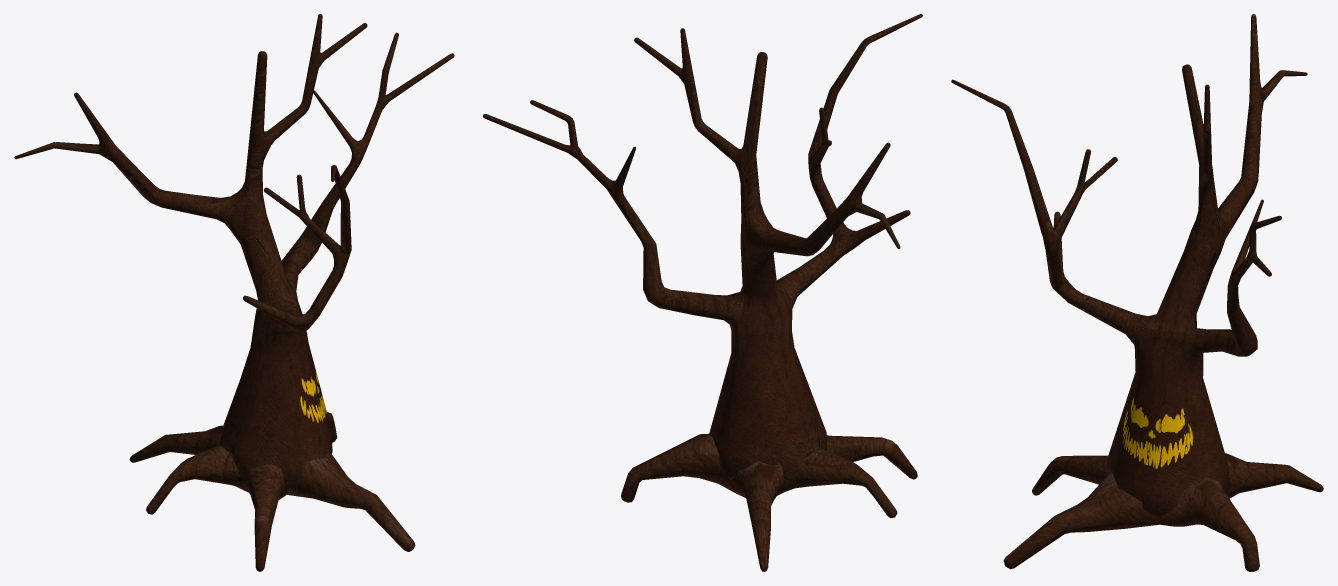
Rendered from RI_Tree_3V.fbx.
3 views of the same model, side by side, from view 1: azimuth 30°, elevation 25°; view 2: azimuth 150°, elevation 25°; view 3: azimuth 270°, elevation 25° (orthographic). The views are drawn at different scales.
Visible parts, largest first — view 1: Cube.005; view 2: Cube.005; view 3: Cube.005.
Boxes of the visible parts, left/top/right/bottom form: Cube.005: left=14, top=14, right=454, bottom=571; Cube.005: left=483, top=14, right=922, bottom=571; Cube.005: left=951, top=14, right=1323, bottom=571.
Size of the model in its own units: 16.16 by 17.07 by 11.84.
